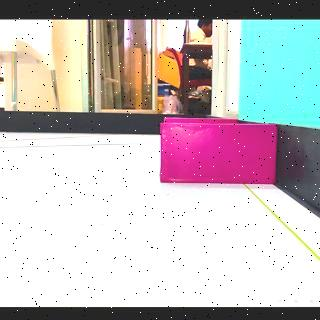xparking: (162, 123, 270, 184)
